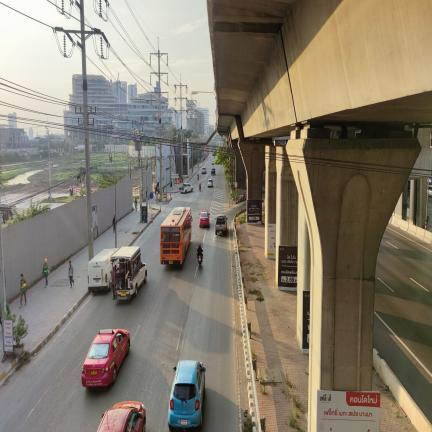bus: (160, 207, 192, 264)
car: (168, 360, 205, 430), (110, 246, 147, 300), (199, 210, 210, 228)
human: (20, 274, 27, 308), (43, 258, 49, 287)
motorbike: (197, 254, 202, 267)
pickup: (215, 215, 227, 235)
taxi: (82, 329, 130, 387)
van: (88, 249, 117, 291)
